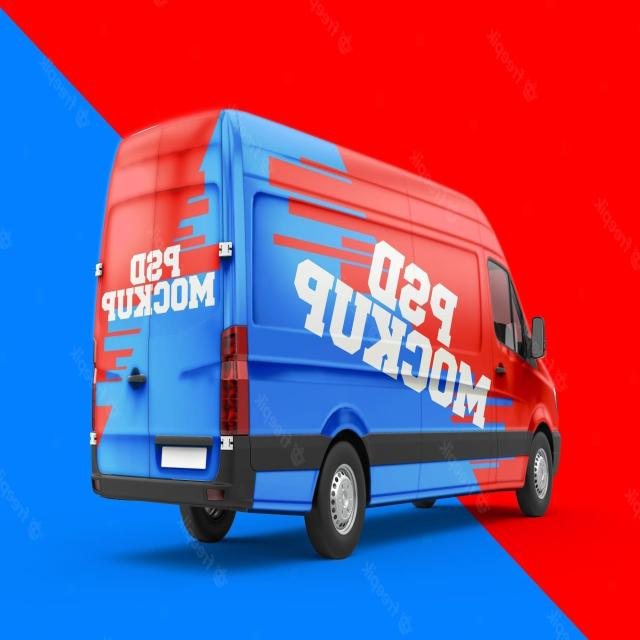Van: (88, 103, 563, 560)
